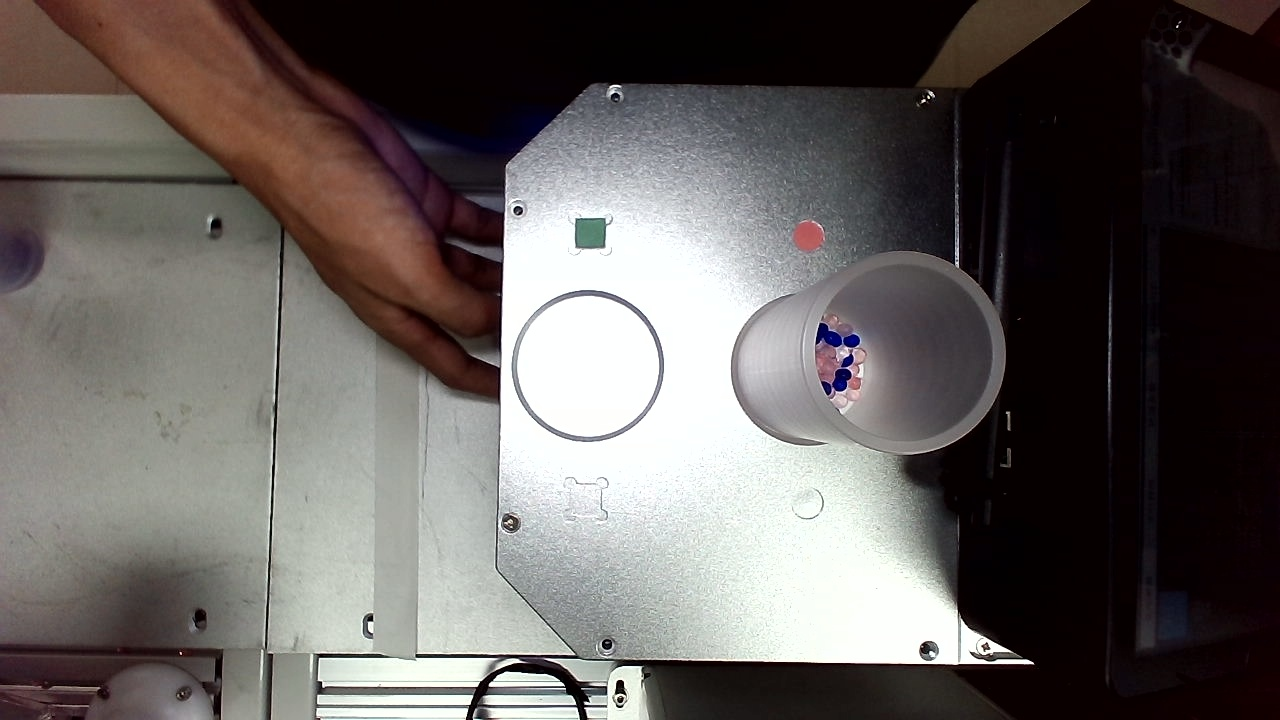bad: (800, 521, 851, 568), (254, 611, 307, 655), (644, 355, 689, 402), (259, 16, 305, 60), (782, 16, 825, 63), (627, 637, 671, 682), (468, 644, 508, 688), (260, 167, 304, 205), (258, 288, 298, 329), (794, 77, 830, 122), (817, 461, 859, 499), (519, 246, 559, 285), (345, 1, 384, 40), (843, 518, 881, 558), (776, 461, 817, 498), (836, 49, 876, 86), (269, 205, 313, 238), (773, 218, 812, 254), (258, 337, 298, 369), (436, 43, 472, 78), (832, 194, 872, 224), (806, 52, 840, 85), (569, 441, 604, 473)
defact: (681, 145, 715, 182)
pass: (567, 147, 615, 197), (261, 526, 304, 569), (263, 408, 306, 449), (287, 568, 330, 609), (589, 409, 632, 449), (515, 391, 554, 435), (389, 482, 430, 523), (843, 583, 884, 624), (716, 573, 754, 616), (673, 42, 710, 84), (846, 487, 889, 523), (688, 103, 727, 142), (566, 609, 604, 649), (798, 410, 840, 446), (798, 605, 832, 642), (852, 561, 891, 592)
toolong: (691, 351, 744, 419), (341, 39, 381, 104), (804, 301, 855, 350)
unpass: (830, 4, 874, 53), (610, 578, 654, 621), (650, 469, 694, 512), (798, 204, 844, 245), (408, 281, 450, 320), (640, 13, 677, 57), (277, 368, 321, 404), (308, 6, 346, 46), (403, 55, 440, 95), (822, 159, 864, 194), (844, 637, 879, 678), (685, 568, 721, 607), (698, 272, 737, 308), (690, 9, 727, 46), (843, 420, 887, 451), (845, 323, 883, 358), (712, 157, 749, 192), (739, 226, 772, 264), (853, 453, 889, 485), (777, 54, 808, 88)
